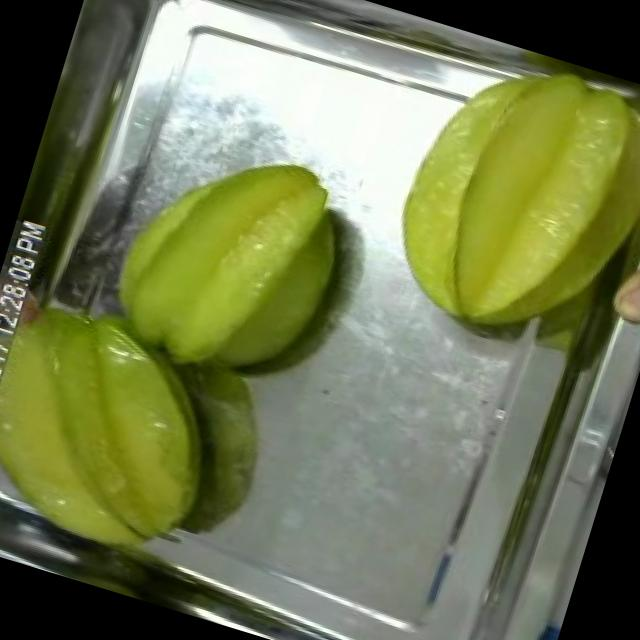fruit: (367, 26, 640, 382), (84, 110, 374, 416), (0, 262, 263, 590), (601, 210, 640, 337)
